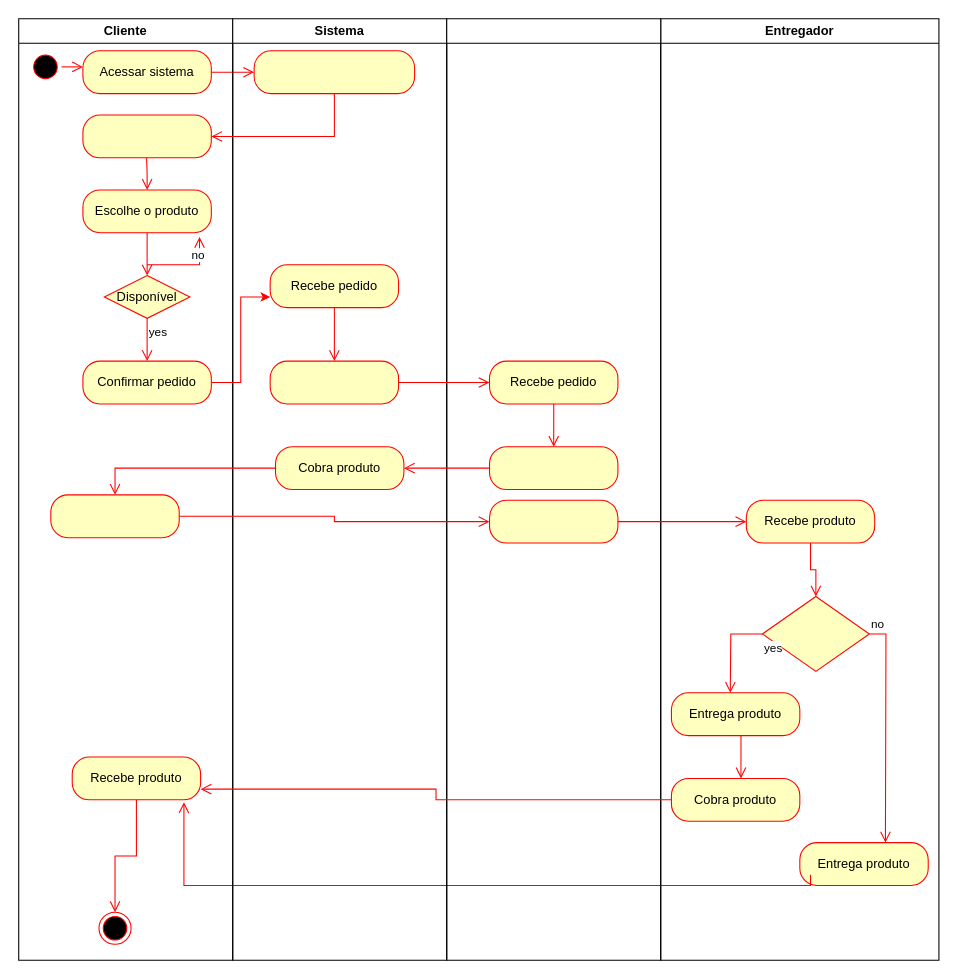
Some shapes in this 958 by 979 pixel diagram are drawn without their labels. Each missing label, with the box of its shape:
Apresenta opções de estabelecimentos: (253, 50, 415, 94)
Dinheiro a receber?: (761, 595, 869, 671)
Envia pedido: (269, 360, 399, 404)
Escolhe estabalecimento: (82, 114, 211, 158)
Escolhe forma de pagamento: (50, 494, 179, 538)
Loja: (446, 18, 661, 960)
Recebe froma pagamento: (488, 499, 618, 543)
Reserva produto: (488, 446, 618, 490)
